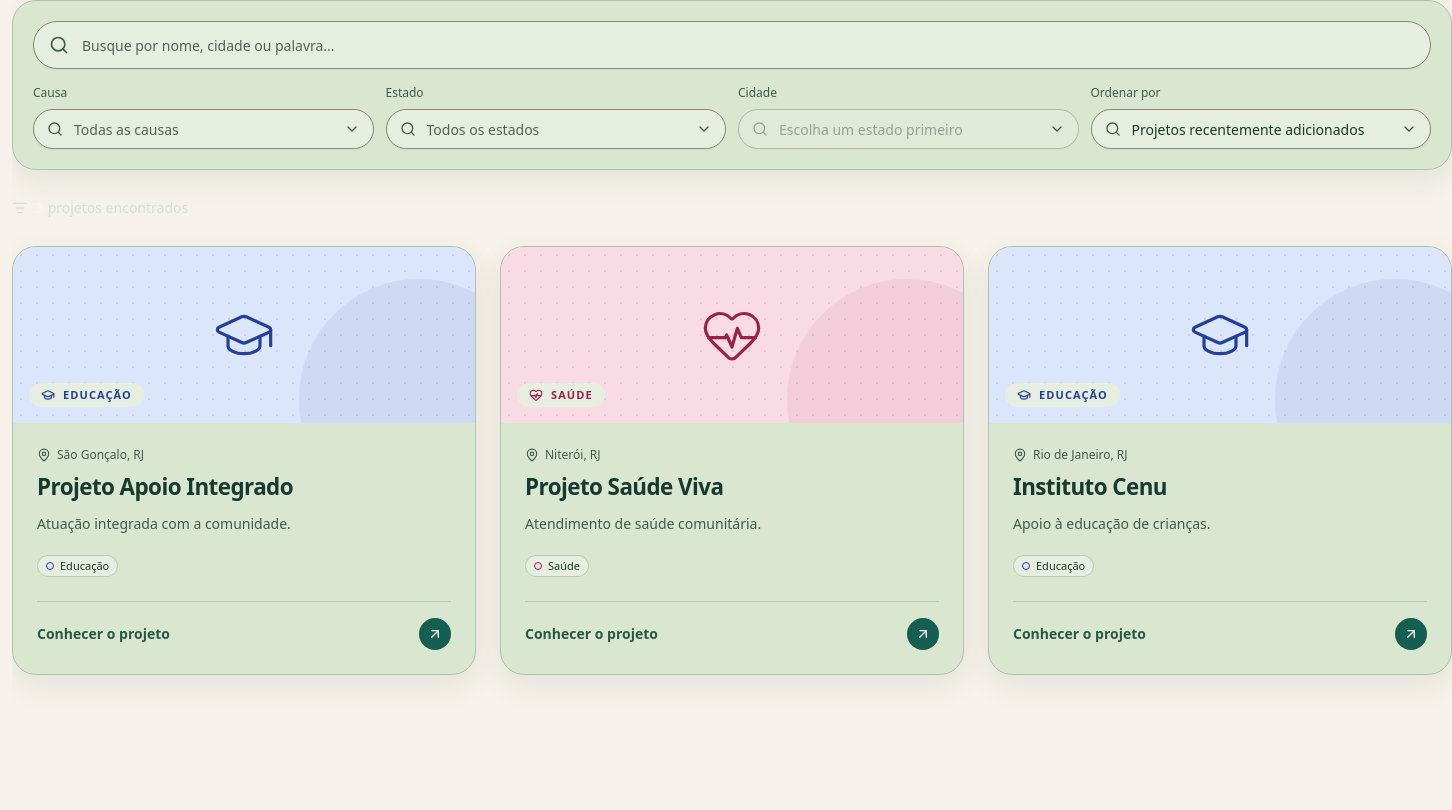
it: busca de projetos em tempo real › mostra a ordem recente apenas uma vez ao abrir o seletor
Click the dropdown labelled "Ordenar por" at (1261, 129), box x1=1090 y1=109 x2=1431 y2=149
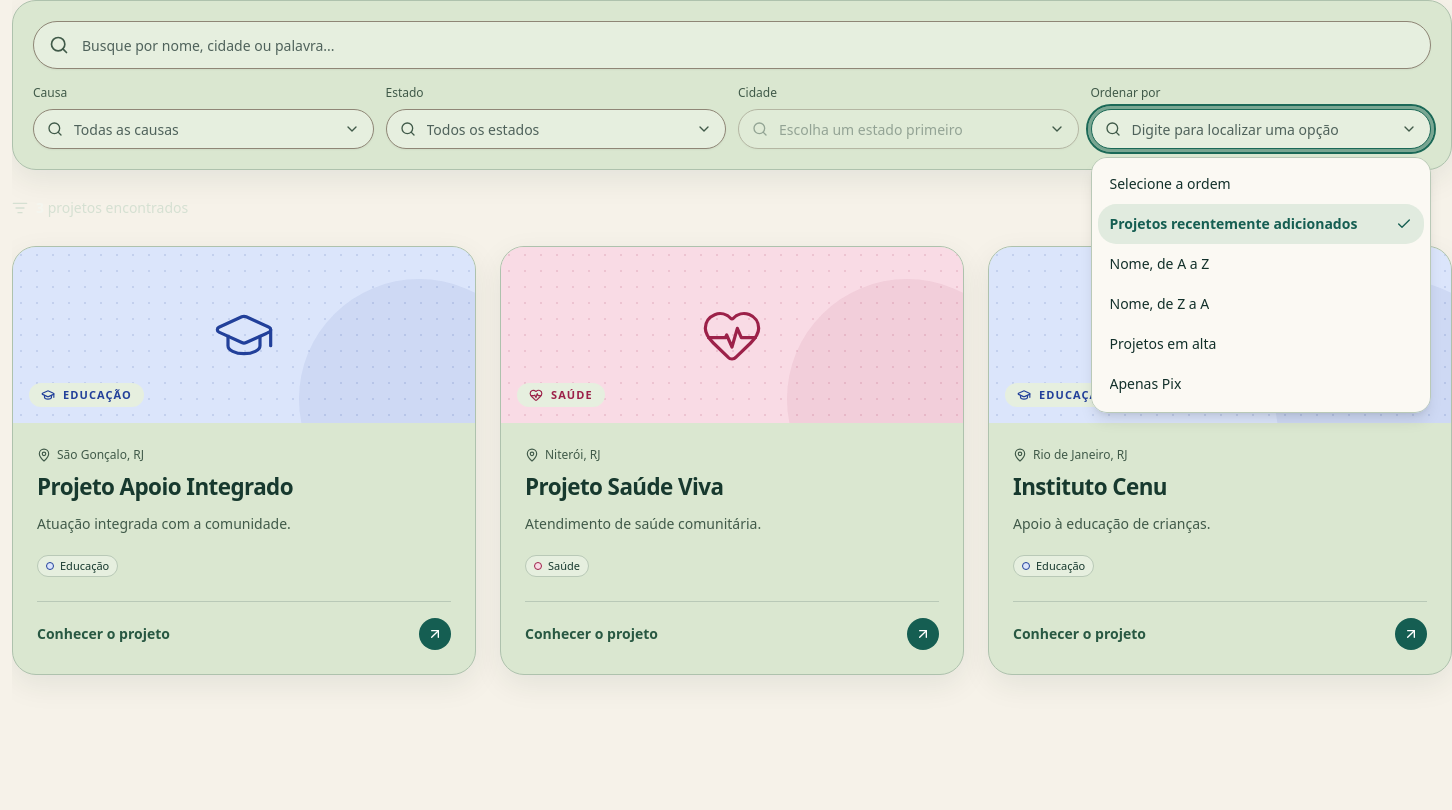
Expected: the number of options "Projetos recentemente adicionados" is 1, x1=1098 y1=204 x2=1424 y2=244
